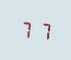seven: (19, 18, 34, 39), (35, 20, 50, 41)
